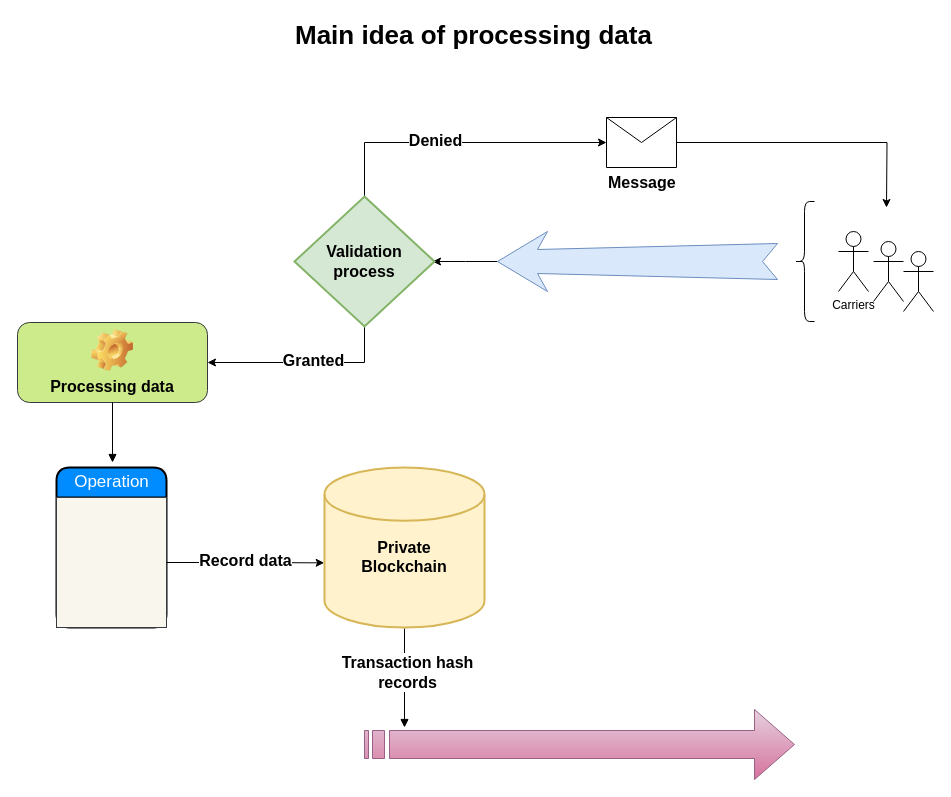
Image size: 951x797. Some labels were removed from this diagram. Here are the shapes that lost their labels. From the top down, the centre of each, then its label:
(x=637, y=261): Input JSON Data from carriers
(x=111, y=562): +Carrier +Cost +Name +etc
(x=579, y=744): Blockchain or Emercoin
